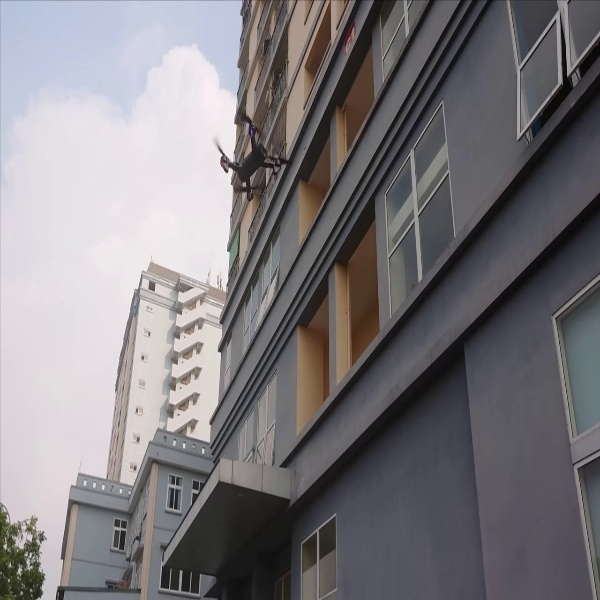drone: (214, 108, 295, 204)
